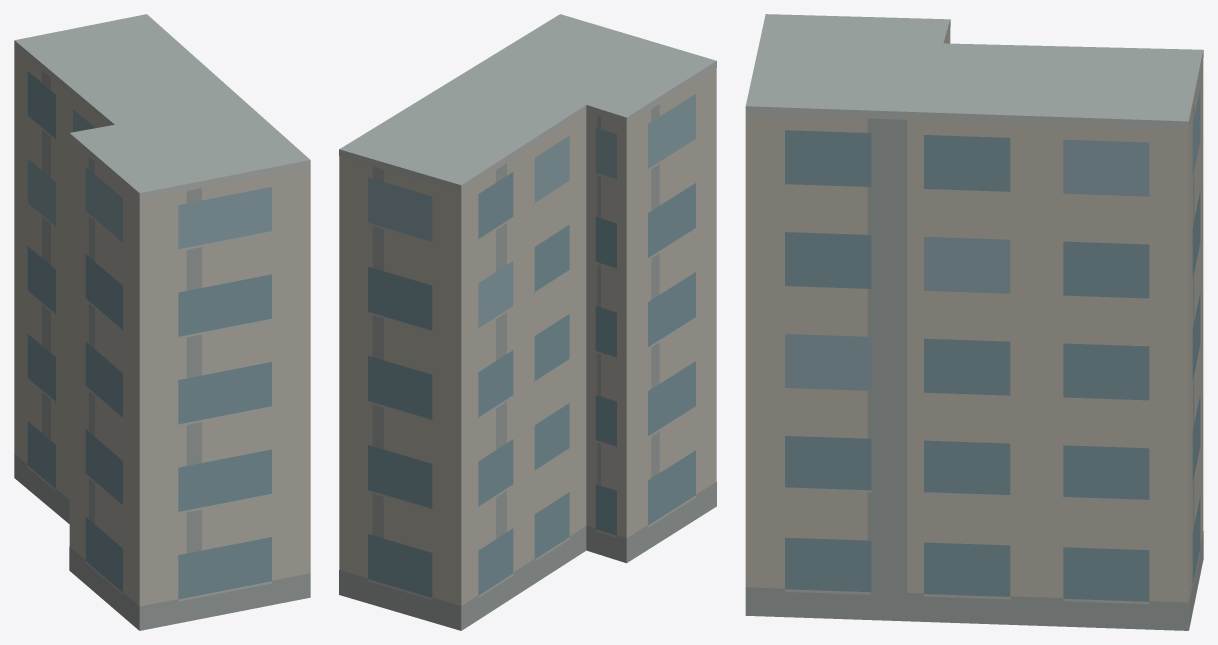
File: survey-upis-32871725.glb
3 views of the same model, side by side, from view 1: azimuth 30°, elevation 25°; view 2: azimuth 150°, elevation 25°; view 3: azimuth 270°, elevation 25° (orthographic). The views are drawn at different scales.
Visible parts, largest first — view 1: survey-upis-32871725.tmp; view 2: survey-upis-32871725.tmp; view 3: survey-upis-32871725.tmp.
Part boxes in pixels (x1,y1,x2,y2): survey-upis-32871725.tmp: (14, 14, 310, 630); survey-upis-32871725.tmp: (339, 14, 716, 630); survey-upis-32871725.tmp: (745, 14, 1203, 630).
Size of the model in its own units: 6.9 by 15.25 by 12.43.
